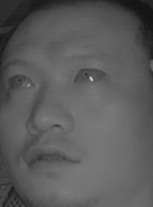eye: (73, 64, 110, 87), (6, 71, 38, 92)
mouth: (19, 139, 84, 178)
